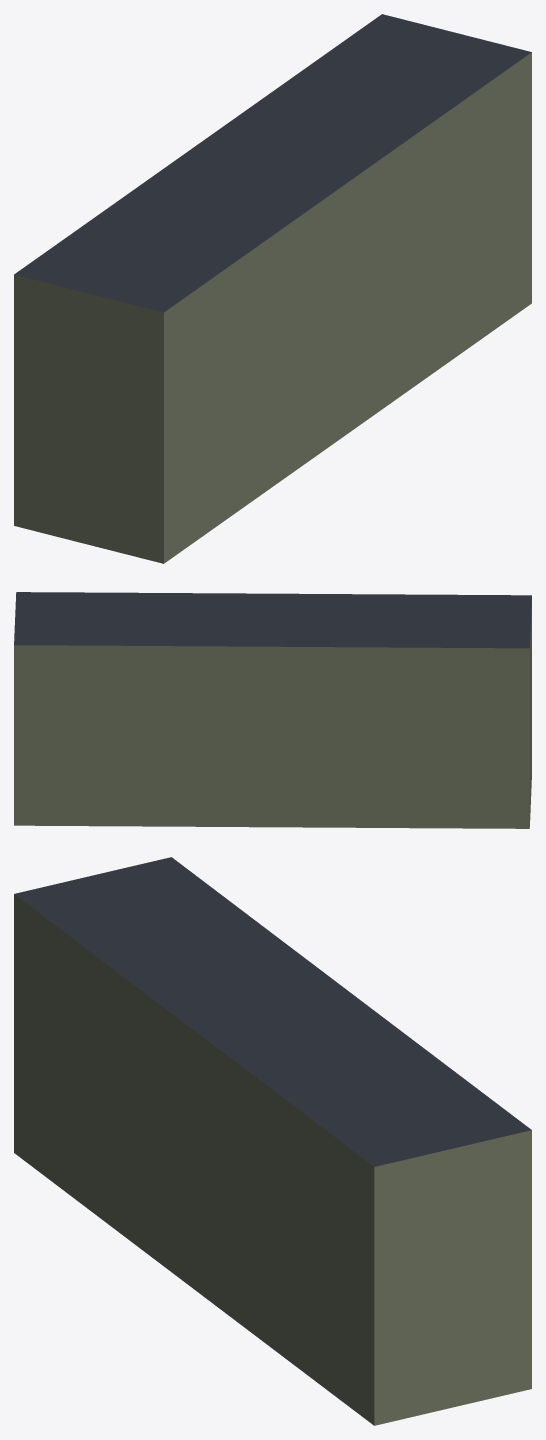
The model's file is nyc-1014503-0.glb.
3 views of the same model, one above another, from view 1: azimuth 30°, elevation 25°; view 2: azimuth 150°, elevation 25°; view 3: azimuth 270°, elevation 25° (orthographic). The views are drawn at different scales.
Visible parts, largest first — view 1: nyc-1014503-0; view 2: nyc-1014503-0; view 3: nyc-1014503-0.
Boxes of the visible parts, x1,y1,x2,y2 form: nyc-1014503-0: [14, 14, 531, 563]; nyc-1014503-0: [14, 592, 531, 828]; nyc-1014503-0: [14, 857, 531, 1425].
Bounding box in the file's own units: 30.24 × 11.78 × 21.36.
